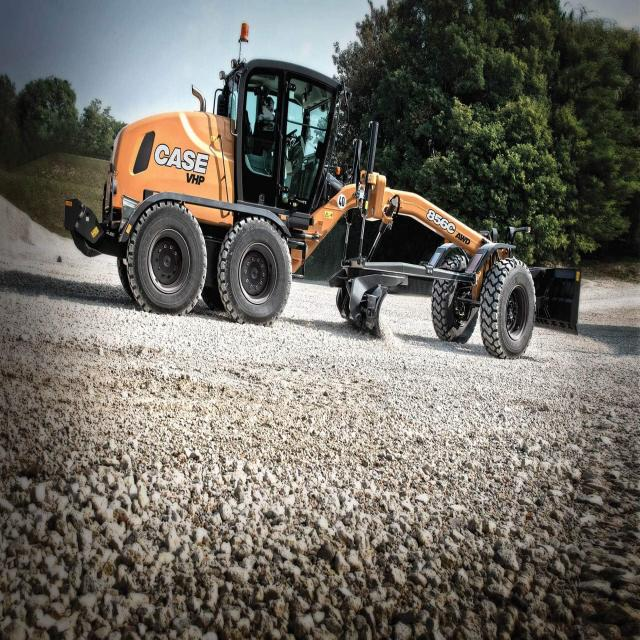buldozerpayloadergrader: (64, 9, 586, 363)
